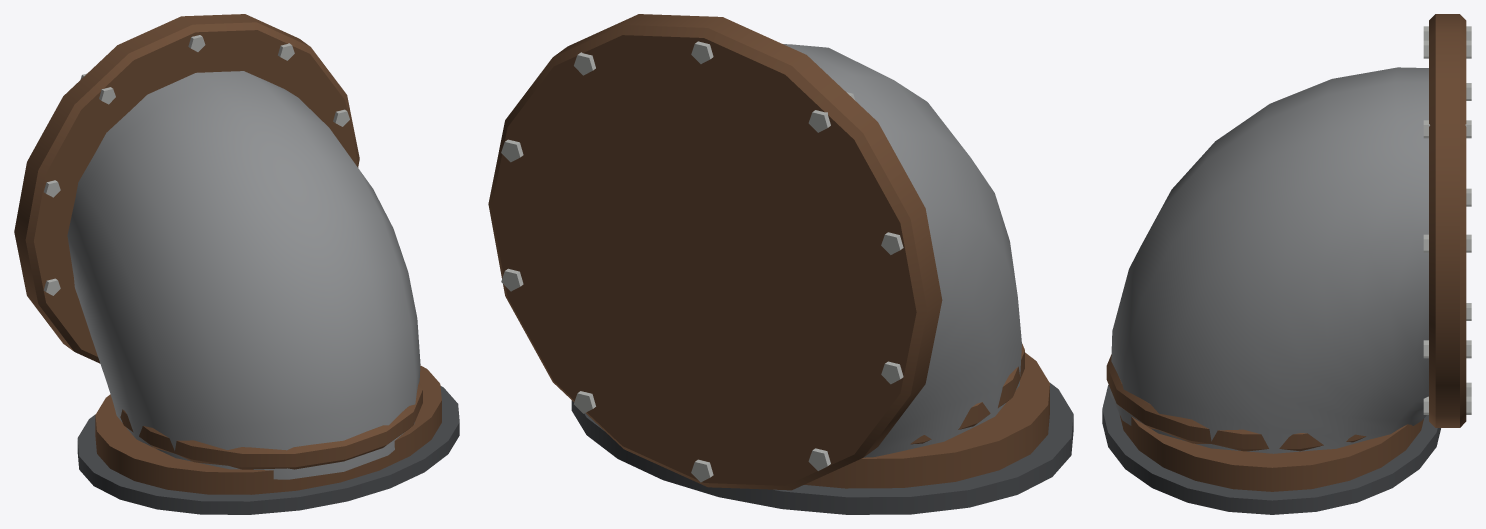
The model's file is pipe-to-ground.glb.
The picture shows the model from 3 angles, left to right: view 1: azimuth 30°, elevation 25°; view 2: azimuth 150°, elevation 25°; view 3: azimuth 270°, elevation 25°; orthographic projection. The views are drawn at different scales.
Visible parts, largest first — view 1: body; view 2: body; view 3: body.
Boxes of the visible parts, x1,y1,x2,y2 form: body: [14, 14, 459, 514]; body: [488, 14, 1073, 514]; body: [1102, 14, 1471, 514].
Size of the model in its own units: 0.8166 by 0.81 by 0.695.
